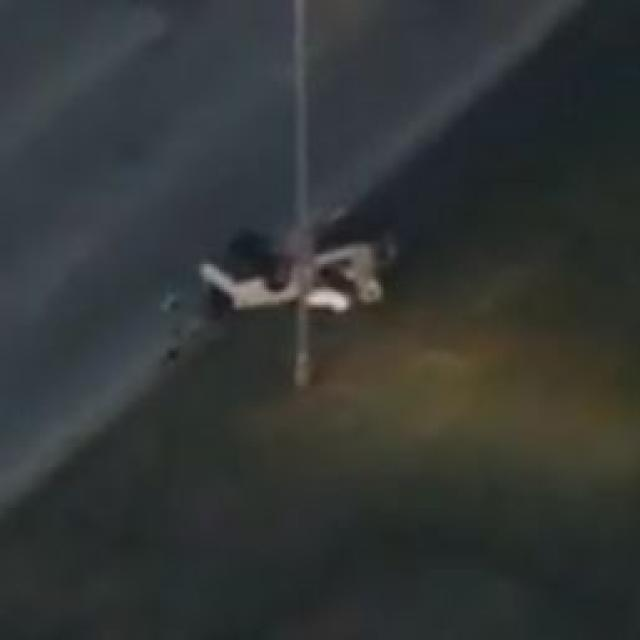traffic_incident: (182, 183, 388, 333)
